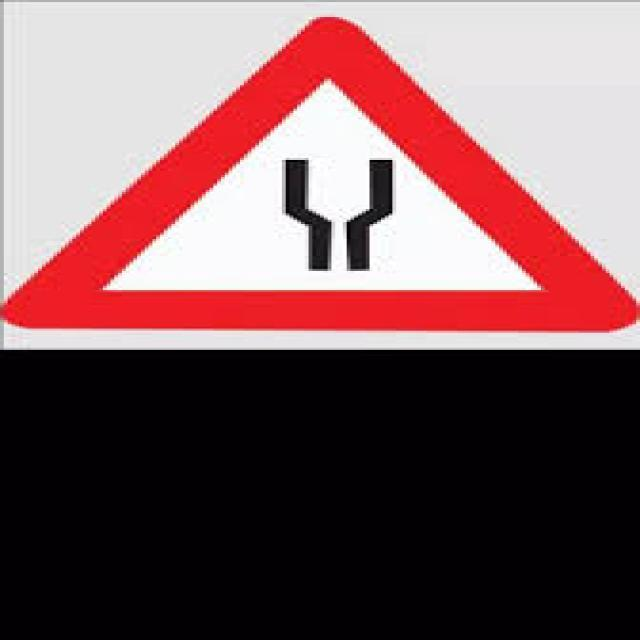road widens ahead: (20, 21, 617, 331)
